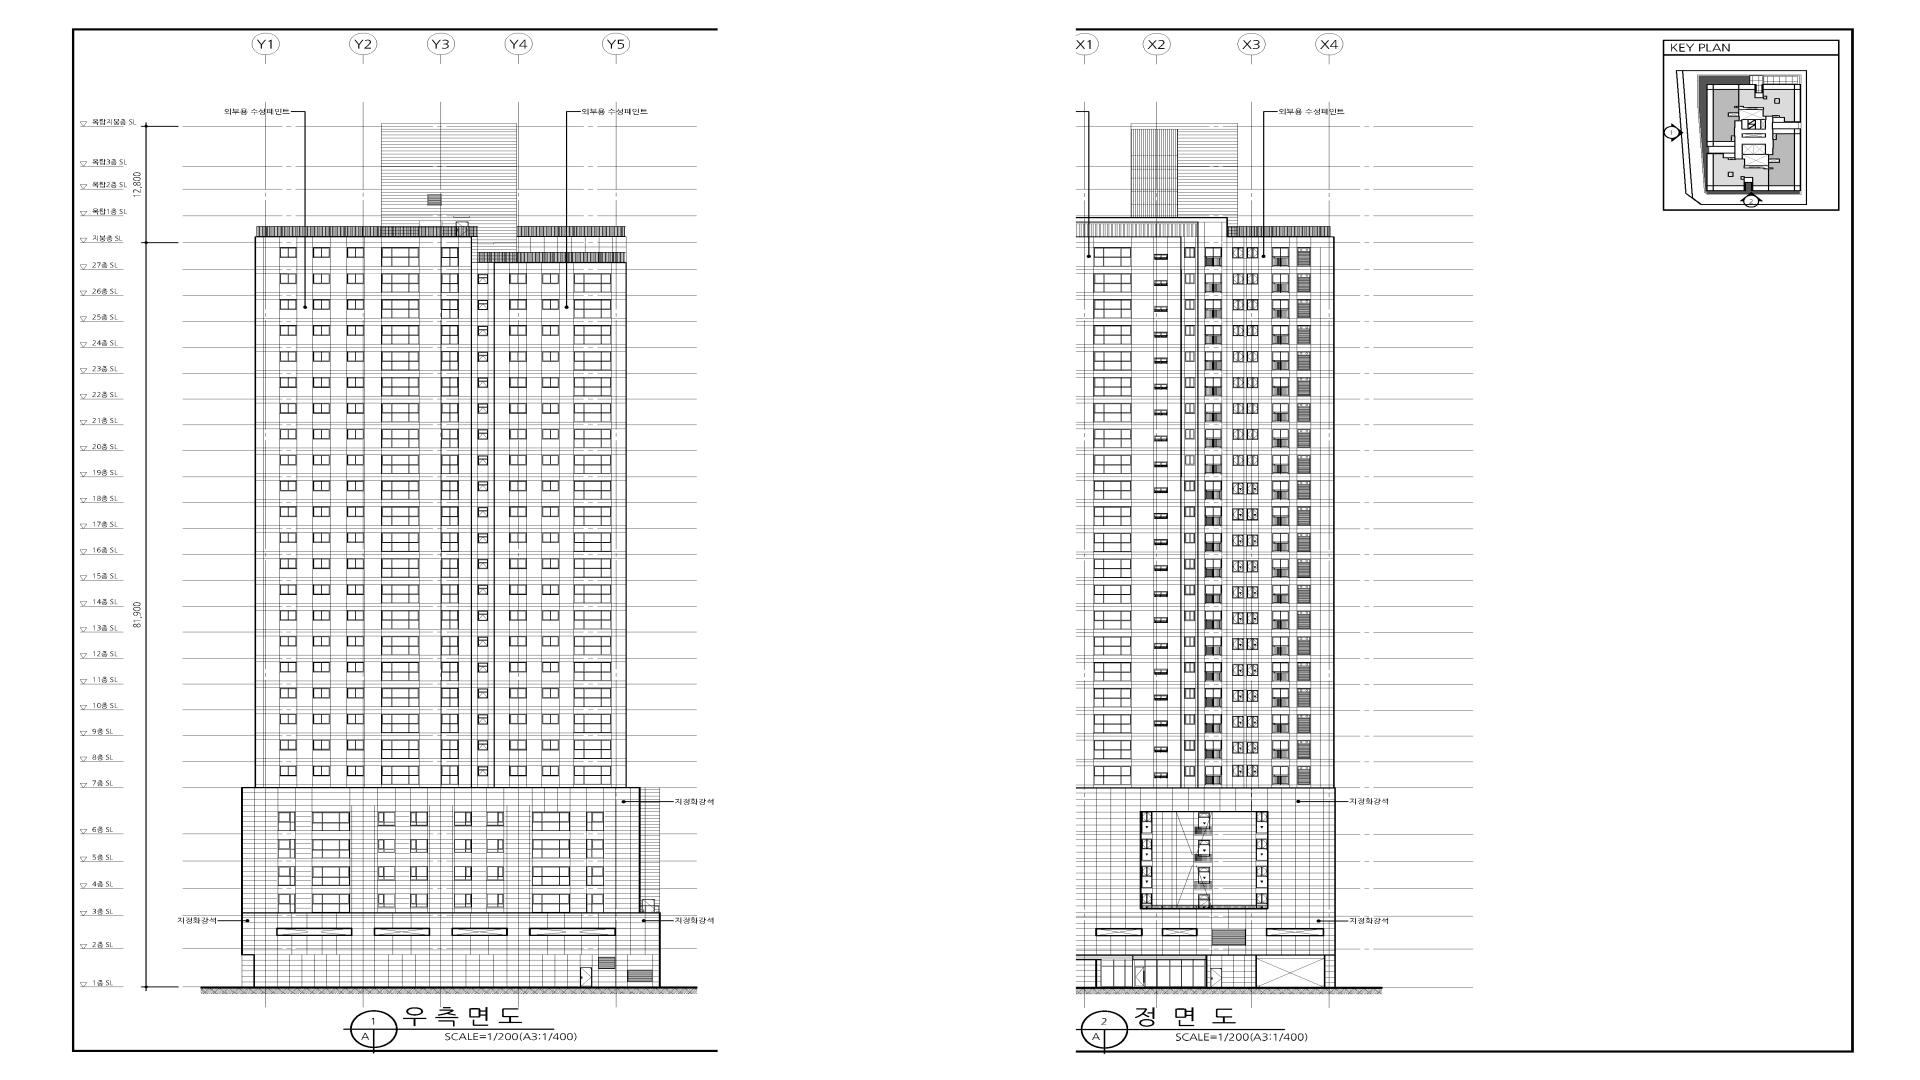door: (1257, 959, 1325, 986), (1134, 965, 1145, 986), (580, 968, 592, 986), (1211, 968, 1222, 986), (642, 899, 655, 913), (456, 222, 468, 236)
wall: (241, 123, 661, 989), (1048, 124, 1336, 989)
window: (529, 927, 616, 936), (381, 713, 419, 733), (381, 687, 419, 707), (381, 558, 419, 578), (381, 480, 419, 500), (381, 429, 419, 448), (381, 402, 419, 422), (381, 351, 419, 371), (381, 324, 419, 344), (531, 811, 570, 831), (381, 273, 419, 293), (381, 247, 419, 266), (574, 273, 612, 293), (574, 299, 612, 319), (574, 324, 612, 344), (574, 351, 612, 371), (574, 377, 612, 397), (574, 429, 612, 448), (574, 636, 612, 655), (574, 713, 612, 733), (533, 893, 571, 913), (313, 866, 351, 886), (311, 839, 349, 858), (1093, 247, 1131, 266), (1093, 273, 1131, 293), (1093, 351, 1131, 371), (1093, 429, 1131, 448), (1093, 480, 1131, 500), (1093, 506, 1131, 526), (1093, 533, 1131, 553), (1093, 636, 1131, 655), (1093, 662, 1131, 682), (1093, 713, 1131, 733), (1093, 740, 1131, 760), (533, 839, 570, 858), (533, 866, 570, 886), (1095, 299, 1131, 319), (381, 766, 419, 785), (381, 740, 419, 758), (381, 662, 419, 680), (381, 637, 419, 655), (381, 611, 419, 629), (381, 584, 419, 603), (381, 533, 419, 551), (381, 506, 419, 525), (381, 455, 419, 473), (381, 377, 419, 396), (381, 299, 419, 318), (574, 404, 612, 422), (574, 455, 612, 473), (574, 506, 612, 525), (574, 533, 612, 551), (574, 559, 612, 578), (574, 584, 612, 603), (574, 611, 612, 629), (574, 662, 612, 680), (574, 688, 612, 707), (574, 740, 612, 758), (574, 766, 612, 785), (313, 812, 351, 831), (276, 927, 352, 936), (1093, 326, 1131, 344), (1093, 377, 1131, 396), (1093, 404, 1131, 422), (1093, 455, 1131, 473), (1093, 559, 1131, 578), (1093, 585, 1131, 604), (1093, 611, 1131, 629), (1093, 688, 1131, 707), (1093, 766, 1131, 785), (574, 481, 611, 500), (313, 894, 349, 913), (1212, 928, 1246, 945), (451, 927, 508, 936), (373, 927, 430, 936), (1266, 928, 1324, 936), (1096, 928, 1143, 936), (585, 866, 604, 886), (440, 765, 459, 785), (440, 713, 459, 733), (440, 636, 459, 655), (440, 584, 459, 604), (440, 506, 459, 526), (440, 480, 459, 500), (440, 429, 459, 448), (440, 351, 459, 371), (440, 324, 459, 344), (440, 273, 459, 293), (440, 247, 459, 266), (1145, 960, 1158, 986), (440, 740, 459, 758), (440, 688, 459, 707), (440, 662, 459, 680), (440, 611, 459, 629), (440, 559, 459, 578), (440, 533, 459, 551), (440, 455, 459, 473), (440, 404, 459, 422), (440, 377, 459, 396), (440, 299, 459, 318), (278, 811, 295, 831), (278, 839, 295, 858), (278, 866, 295, 886), (278, 893, 295, 913), (587, 811, 604, 831), (587, 839, 604, 858), (1273, 611, 1290, 630), (628, 969, 653, 982), (587, 894, 604, 913), (1273, 248, 1290, 266), (1273, 299, 1290, 318), (1273, 326, 1290, 344), (1205, 273, 1221, 293), (1205, 247, 1221, 266), (1273, 273, 1288, 293), (1273, 351, 1288, 371), (1273, 429, 1288, 448), (1273, 480, 1288, 500), (1273, 506, 1288, 526), (1273, 533, 1288, 553), (1273, 584, 1288, 604), (1273, 662, 1288, 682), (1273, 740, 1288, 760), (1101, 960, 1113, 986), (1113, 960, 1125, 986), (1158, 960, 1170, 986), (1170, 960, 1182, 986), (1182, 960, 1193, 986), (1193, 960, 1205, 986), (1205, 506, 1221, 526), (1205, 480, 1221, 500), (1205, 455, 1221, 475), (1205, 429, 1221, 448), (1205, 351, 1221, 371), (1205, 324, 1221, 344), (1205, 299, 1221, 318), (1273, 377, 1288, 396), (1273, 404, 1288, 422), (1273, 455, 1288, 473), (1273, 559, 1288, 578), (1273, 637, 1288, 655), (1273, 688, 1288, 707), (1273, 715, 1288, 733), (1273, 766, 1288, 785), (1205, 766, 1221, 785), (1205, 740, 1221, 758), (1205, 688, 1221, 707), (1205, 662, 1221, 680), (1205, 637, 1221, 655), (1205, 611, 1221, 629), (1205, 585, 1221, 604), (1205, 559, 1221, 578), (1205, 533, 1221, 551), (1205, 404, 1221, 422), (1205, 377, 1221, 396), (1162, 928, 1197, 936), (1205, 715, 1221, 732), (377, 839, 396, 853), (377, 866, 396, 881), (454, 839, 472, 853), (454, 866, 472, 881), (1255, 839, 1267, 860), (410, 866, 427, 881), (410, 839, 427, 853), (487, 866, 504, 881), (487, 839, 504, 853), (377, 812, 396, 825), (377, 894, 396, 907), (410, 894, 429, 907), (454, 812, 472, 825), (454, 894, 472, 907), (1298, 766, 1311, 785), (1298, 740, 1311, 758), (1298, 715, 1311, 733), (1298, 688, 1311, 707), (1298, 662, 1311, 680), (1298, 637, 1311, 655), (1298, 585, 1311, 604), (1298, 559, 1311, 578), (1298, 533, 1311, 551), (1298, 506, 1311, 525), (1298, 481, 1311, 500), (1298, 455, 1311, 473), (1298, 430, 1311, 448), (1298, 404, 1311, 422), (1298, 326, 1311, 344), (1298, 299, 1311, 318), (1298, 273, 1311, 291), (410, 812, 427, 825), (487, 894, 504, 907), (487, 812, 504, 825), (1298, 352, 1311, 369), (1298, 248, 1311, 265), (1257, 812, 1267, 833), (1257, 866, 1267, 887), (1142, 812, 1153, 833), (1142, 839, 1153, 860), (1142, 866, 1153, 887), (1298, 611, 1309, 629), (1298, 377, 1309, 396), (1125, 960, 1133, 986), (599, 957, 616, 969), (1199, 812, 1211, 829), (1199, 866, 1211, 884), (313, 713, 331, 724), (313, 636, 331, 646), (313, 611, 331, 621), (313, 480, 331, 491), (1199, 840, 1211, 856), (280, 662, 297, 673), (280, 687, 297, 698), (280, 713, 297, 724), (280, 740, 297, 750), (280, 765, 297, 775), (313, 766, 330, 777), (313, 740, 330, 750), (313, 687, 330, 698), (313, 662, 330, 673), (313, 584, 330, 595), (313, 559, 330, 570), (313, 533, 330, 543), (313, 506, 330, 517), (313, 455, 330, 465), (313, 429, 330, 439), (313, 404, 330, 414), (313, 377, 330, 388), (313, 351, 330, 361), (313, 326, 330, 336), (313, 299, 330, 310), (313, 273, 330, 284), (313, 247, 330, 257), (347, 247, 364, 257), (347, 273, 364, 284), (347, 299, 364, 310), (347, 326, 364, 336), (347, 377, 364, 388), (347, 404, 364, 414), (347, 429, 364, 439), (347, 455, 364, 465), (542, 351, 559, 361), (542, 377, 559, 388), (542, 404, 559, 414), (542, 429, 559, 439), (542, 455, 559, 465), (542, 480, 559, 491), (542, 506, 559, 517), (542, 533, 559, 543), (542, 559, 559, 570), (542, 584, 559, 595), (542, 611, 559, 621), (542, 636, 559, 646), (542, 662, 559, 673), (542, 687, 559, 698), (542, 713, 559, 724), (542, 740, 559, 750), (542, 766, 559, 777), (347, 480, 364, 491), (347, 506, 364, 517), (347, 533, 364, 543), (347, 558, 364, 568), (347, 584, 364, 595), (347, 611, 364, 621), (347, 636, 364, 646), (347, 662, 364, 673), (347, 688, 364, 699), (347, 713, 364, 724), (347, 740, 364, 750), (347, 766, 364, 777), (509, 765, 526, 775), (509, 740, 526, 750), (509, 713, 526, 724), (509, 687, 526, 698), (509, 662, 526, 673), (509, 636, 526, 646), (509, 611, 526, 621), (509, 584, 526, 595), (509, 533, 526, 543), (509, 506, 526, 517), (509, 480, 526, 491), (509, 455, 526, 465), (509, 429, 526, 439), (509, 404, 526, 414), (509, 377, 526, 388), (509, 351, 526, 361), (509, 324, 526, 335), (509, 299, 526, 310), (509, 273, 526, 284), (542, 273, 559, 284), (542, 299, 559, 310), (542, 324, 559, 335), (280, 273, 297, 284), (280, 299, 297, 310), (280, 326, 297, 336), (280, 351, 297, 361), (280, 377, 297, 388), (280, 404, 297, 414), (280, 429, 297, 439), (280, 455, 297, 465), (280, 506, 297, 517), (280, 533, 297, 543), (280, 559, 297, 570), (280, 584, 297, 595), (280, 611, 297, 621), (280, 636, 297, 646), (427, 194, 442, 206), (1199, 894, 1211, 909), (1257, 893, 1267, 909), (347, 352, 364, 361), (509, 559, 526, 568), (280, 248, 297, 257), (280, 481, 297, 491), (1232, 351, 1245, 363), (1232, 690, 1245, 702), (1142, 894, 1153, 909), (1246, 351, 1258, 363), (1246, 247, 1258, 258), (1233, 429, 1245, 440), (1246, 765, 1258, 777), (1246, 638, 1258, 650), (1246, 560, 1258, 572), (1246, 483, 1258, 495), (1246, 429, 1258, 440), (1232, 273, 1244, 285), (1232, 299, 1245, 310), (1232, 377, 1245, 388), (1232, 742, 1245, 753), (1246, 613, 1259, 624), (1246, 377, 1258, 388), (1246, 326, 1258, 336), (1246, 299, 1258, 310), (1184, 404, 1196, 414), (1184, 429, 1196, 439), (1184, 455, 1196, 465), (1184, 480, 1195, 492), (1184, 636, 1195, 647), (1233, 326, 1245, 336), (1232, 404, 1244, 414), (1232, 455, 1244, 465), (1233, 483, 1244, 495), (1232, 509, 1244, 520), (1232, 535, 1244, 546), (1232, 560, 1244, 571), (1233, 587, 1245, 597), (1232, 613, 1244, 624), (1232, 638, 1244, 649), (1232, 665, 1244, 675), (1232, 716, 1244, 727), (1232, 766, 1244, 777), (1246, 742, 1258, 753), (1246, 716, 1258, 727), (1246, 691, 1258, 702), (1246, 665, 1258, 675), (1246, 587, 1258, 597), (1246, 535, 1258, 546), (1246, 509, 1258, 520), (1246, 455, 1258, 465), (1246, 404, 1258, 414), (1184, 247, 1195, 258), (1184, 273, 1196, 284), (1184, 299, 1196, 310), (1246, 274, 1258, 285), (1232, 248, 1244, 258), (477, 404, 488, 414), (477, 455, 488, 465), (477, 481, 488, 492), (477, 533, 488, 543), (477, 611, 488, 621), (477, 662, 488, 673), (477, 688, 488, 699), (477, 740, 488, 750), (477, 766, 488, 777), (477, 326, 488, 336), (477, 377, 488, 388), (1184, 377, 1195, 388), (1184, 506, 1195, 517), (1184, 533, 1195, 543), (1184, 559, 1195, 570), (1184, 584, 1195, 595), (1184, 611, 1195, 621), (1184, 662, 1195, 673), (1184, 688, 1195, 699), (1184, 715, 1195, 725), (1184, 740, 1195, 750), (1184, 766, 1195, 777), (1184, 326, 1195, 336), (1184, 351, 1195, 361), (477, 430, 488, 439), (477, 508, 488, 517), (477, 559, 488, 568), (477, 585, 488, 595), (477, 637, 488, 646), (477, 715, 488, 724), (477, 274, 488, 284), (477, 301, 488, 310), (477, 352, 488, 361), (1154, 357, 1168, 364), (1154, 720, 1167, 727), (1154, 669, 1167, 675), (1154, 591, 1167, 597), (1154, 487, 1167, 493), (1154, 435, 1167, 442), (1154, 280, 1167, 286), (1154, 695, 1168, 700), (1154, 566, 1168, 571), (1154, 539, 1168, 545), (1154, 332, 1168, 338), (1154, 306, 1168, 311), (1154, 255, 1168, 260), (1154, 773, 1167, 778), (1154, 746, 1167, 752), (1154, 644, 1167, 649), (1154, 617, 1167, 622), (1154, 513, 1167, 518), (1154, 462, 1167, 467), (1154, 410, 1167, 415), (1154, 384, 1167, 389)
